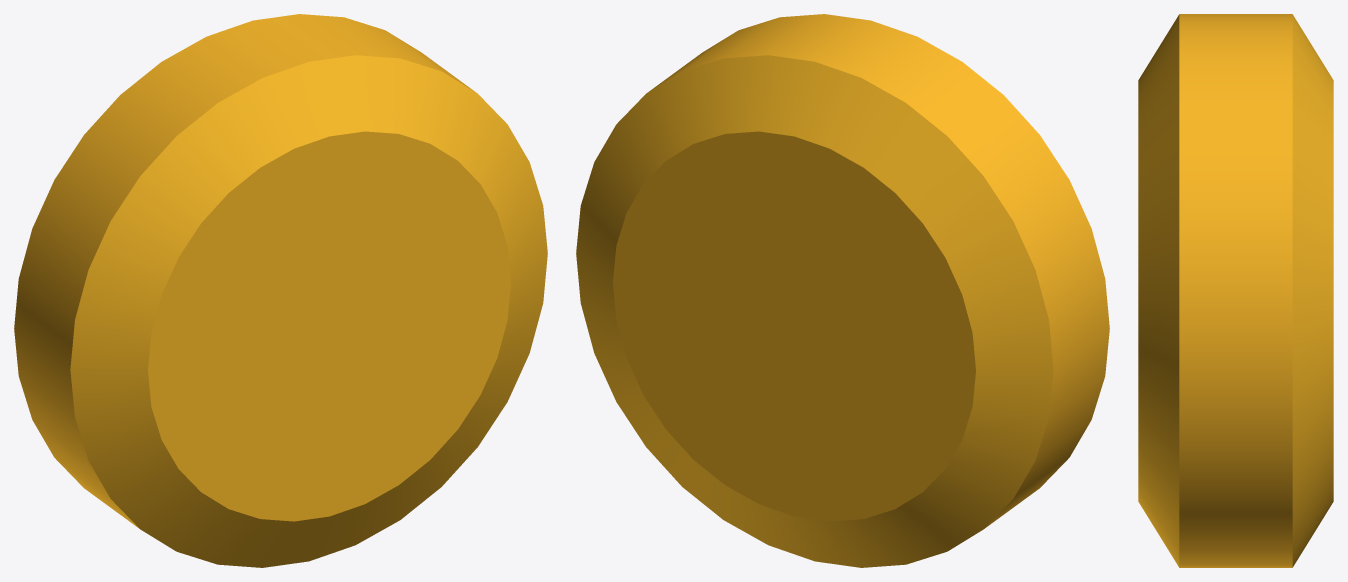
The picture shows the model from 3 angles, left to right: view 1: azimuth 30°, elevation 25°; view 2: azimuth 150°, elevation 25°; view 3: azimuth 270°, elevation 25°; orthographic projection.
Visible parts, largest first — view 1: Circle; view 2: Circle; view 3: Circle.
Boxes of the visible parts, left/top/right/bottom form: Circle: left=14, top=14, right=547, bottom=567; Circle: left=576, top=14, right=1109, bottom=567; Circle: left=1138, top=14, right=1333, bottom=567.
Bounding box in the file's own units: 35.61 × 35.61 × 12.53.
